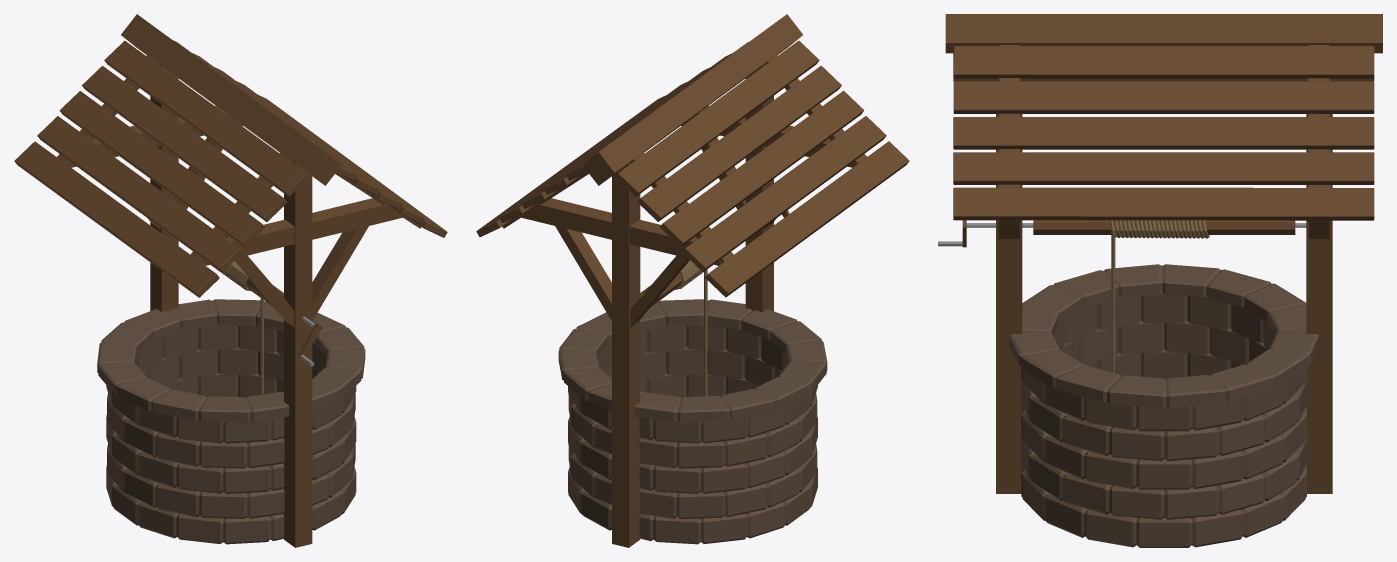
Rendered from Well_001.fbx.
3 renders of one model, left to right at view 1: azimuth 30°, elevation 25°; view 2: azimuth 150°, elevation 25°; view 3: azimuth 270°, elevation 25°, orthographic. The views are drawn at different scales.
Visible parts, largest first — view 1: Well; view 2: Well; view 3: Well.
Part boxes in pixels (box(x1,y1,x2,y2)): Well: box(14, 14, 447, 547); Well: box(476, 14, 909, 547); Well: box(938, 14, 1382, 547).
Size of the model in its own units: 165 by 256 by 217.
